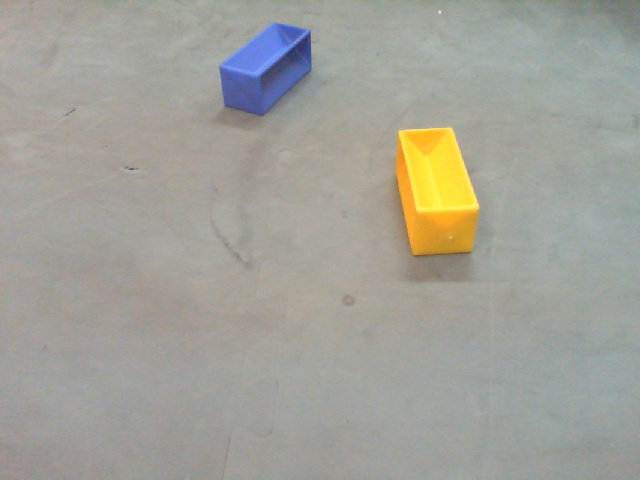BlueSample: (216, 18, 313, 117)
YellowSample: (394, 124, 479, 258)
